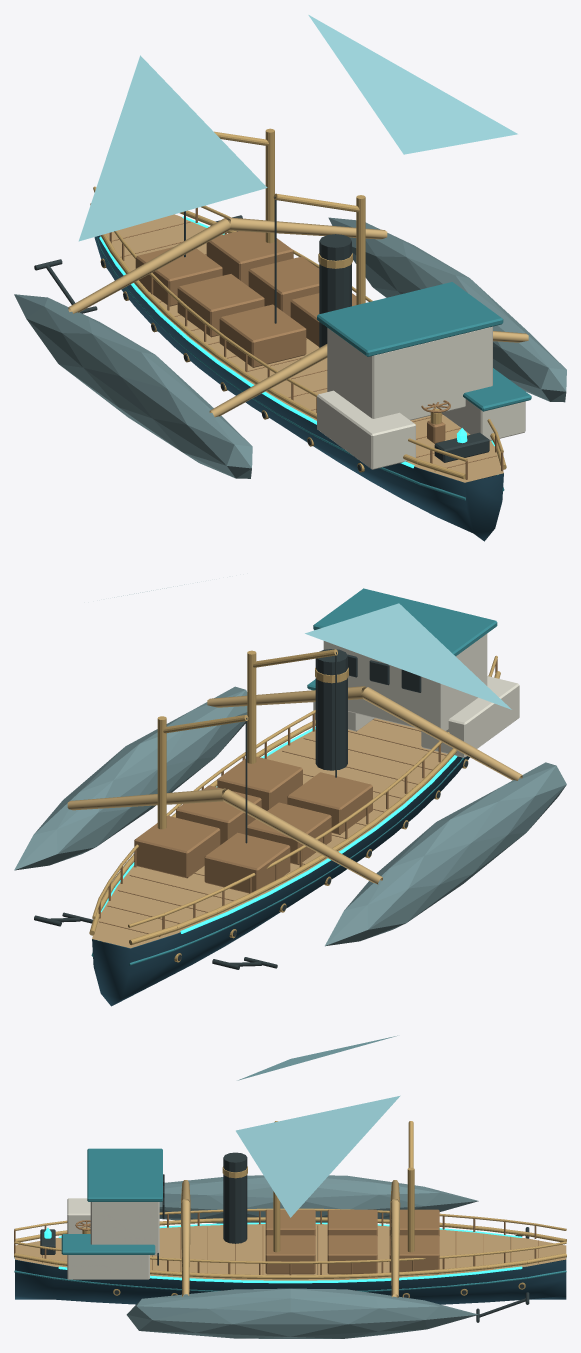
Rendered from premium_steam_freighter.glb.
3 renders of one model, top to bottom at view 1: azimuth 30°, elevation 25°; view 2: azimuth 150°, elevation 25°; view 3: azimuth 270°, elevation 25°, orthographic. The views are drawn at different scales.
Visible parts, largest first — view 1: premium_steam_freighter; view 2: premium_steam_freighter; view 3: premium_steam_freighter.
Part boxes in pixels (box(x1,y1,x2,y2)): premium_steam_freighter: box(14, 15, 566, 541); premium_steam_freighter: box(14, 582, 566, 1006); premium_steam_freighter: box(14, 1035, 566, 1338).
Bounding box in the file's own units: 10.93 × 7.5 × 16.05.
